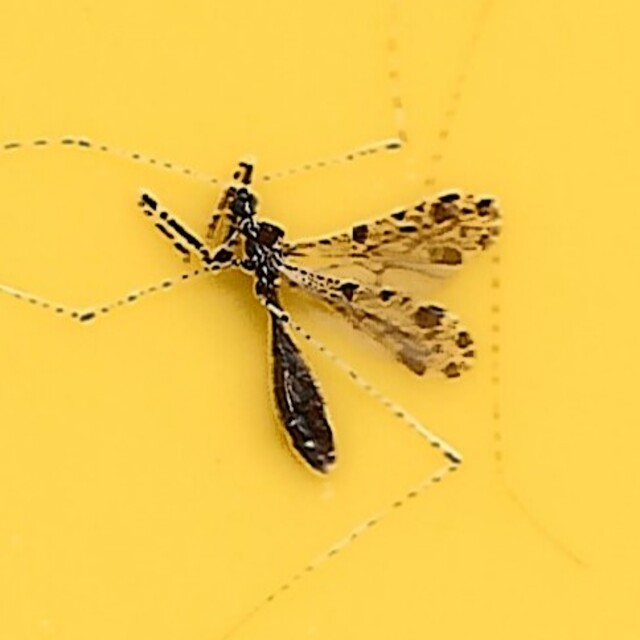Nematocera: (132, 157, 508, 483)
